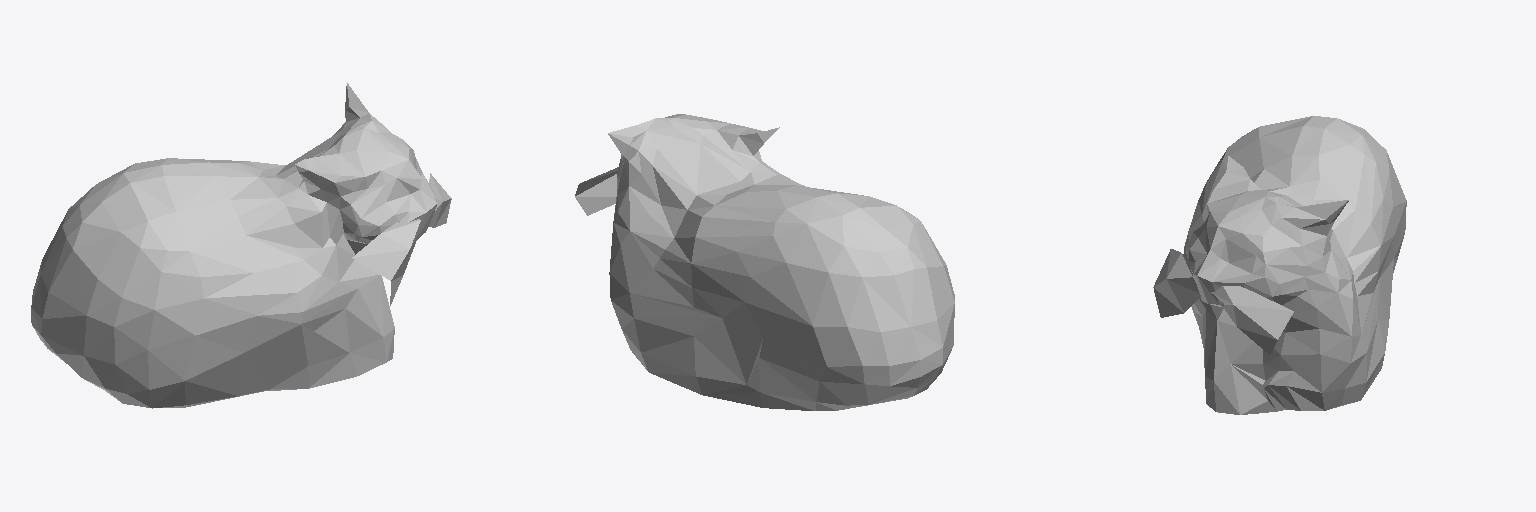
File: cattwo.obj
3 renders of one model, left to right at view 1: azimuth 30°, elevation 25°; view 2: azimuth 150°, elevation 25°; view 3: azimuth 270°, elevation 25°, orthographic.
Parts seen in each view (by area): view 1: dingus; view 2: dingus; view 3: dingus.
Boxes of the visible parts, x1,y1,x2,y2 form: dingus: [31, 83, 451, 408]; dingus: [575, 114, 954, 410]; dingus: [1153, 116, 1406, 414].
Size of the model in its own units: 33.23 by 19.21 by 18.75.